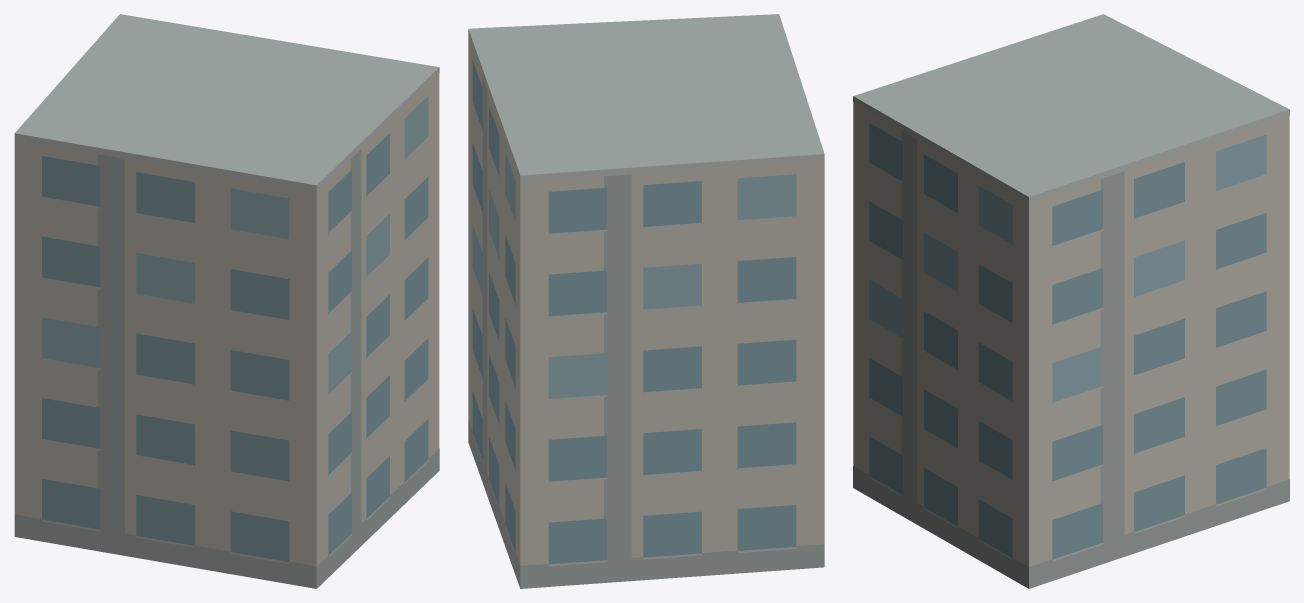
File: survey-upis-32635768.glb
3 renders of one model, left to right at view 1: azimuth 30°, elevation 25°; view 2: azimuth 150°, elevation 25°; view 3: azimuth 270°, elevation 25°, orthographic. The views are drawn at different scales.
Parts seen in each view (by area): view 1: survey-upis-32635768.tmp; view 2: survey-upis-32635768.tmp; view 3: survey-upis-32635768.tmp.
Part boxes in pixels (left/top/right/bottom): survey-upis-32635768.tmp: left=14, top=14, right=439, bottom=588; survey-upis-32635768.tmp: left=468, top=14, right=824, bottom=588; survey-upis-32635768.tmp: left=853, top=14, right=1289, bottom=588.
Size of the model in its own units: 15.29 by 15.25 by 15.4.
